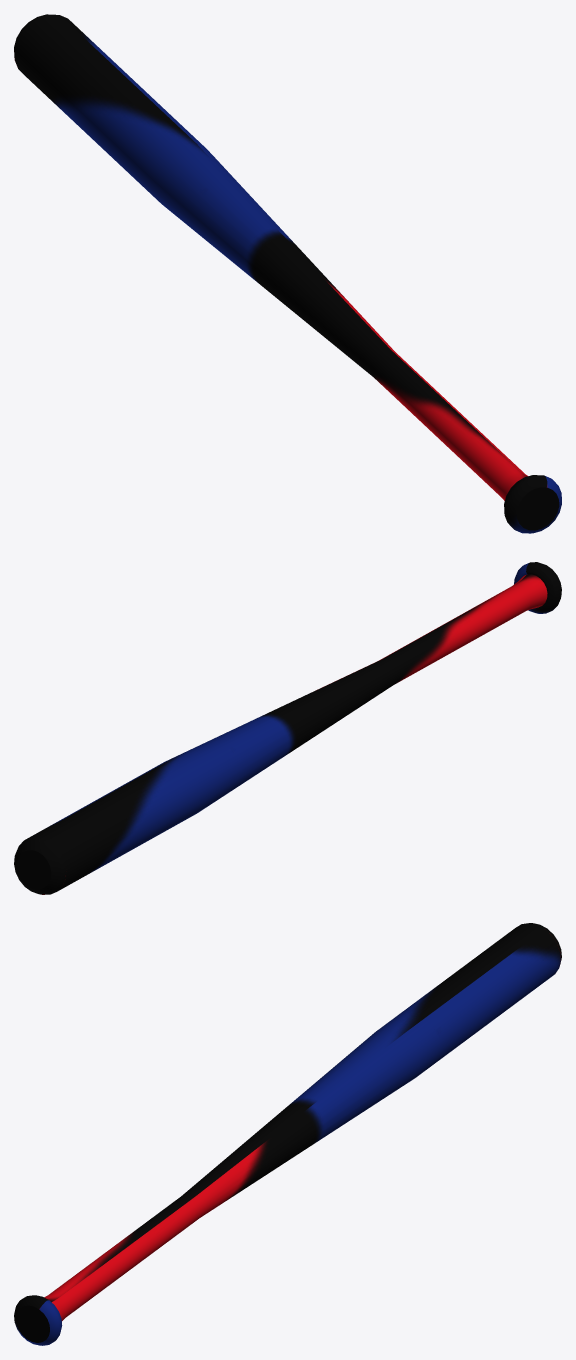
File: bateAl.obj
3 renders of one model, top to bottom at view 1: azimuth 30°, elevation 25°; view 2: azimuth 150°, elevation 25°; view 3: azimuth 330°, elevation 25°, orthographic. The views are drawn at different scales.
Visible parts, largest first — view 1: defaultMaterial; view 2: defaultMaterial; view 3: defaultMaterial.
Part boxes in pixels (left/top/right/bottom): defaultMaterial: left=14, top=14, right=561, bottom=533; defaultMaterial: left=14, top=562, right=561, bottom=894; defaultMaterial: left=14, top=923, right=561, bottom=1345.
Size of the model in its own units: 0.224 by 0.23 by 2.
Materials: 1 (1 with a texture image).
